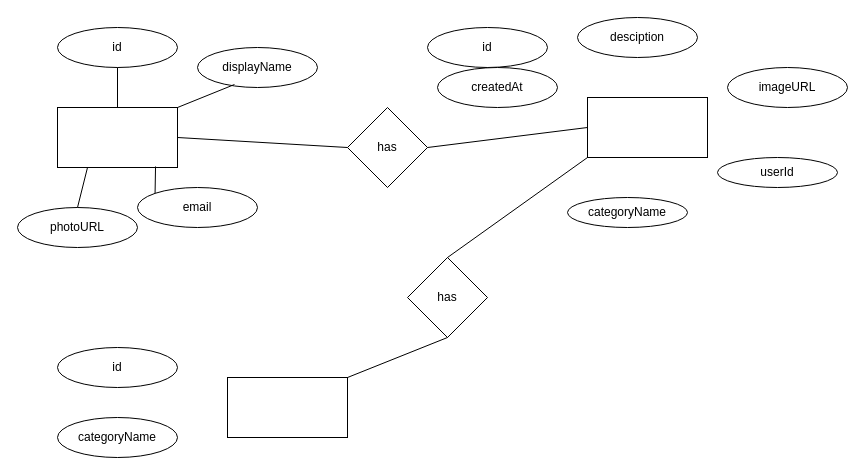
This 865x475 diagram has some shape labels left out. The centre of each missing label's shape, as x and y in pixels:
"Category" goes at pixel 287 407.
"Post" goes at pixel 647 127.
"User" goes at pixel 117 137.
